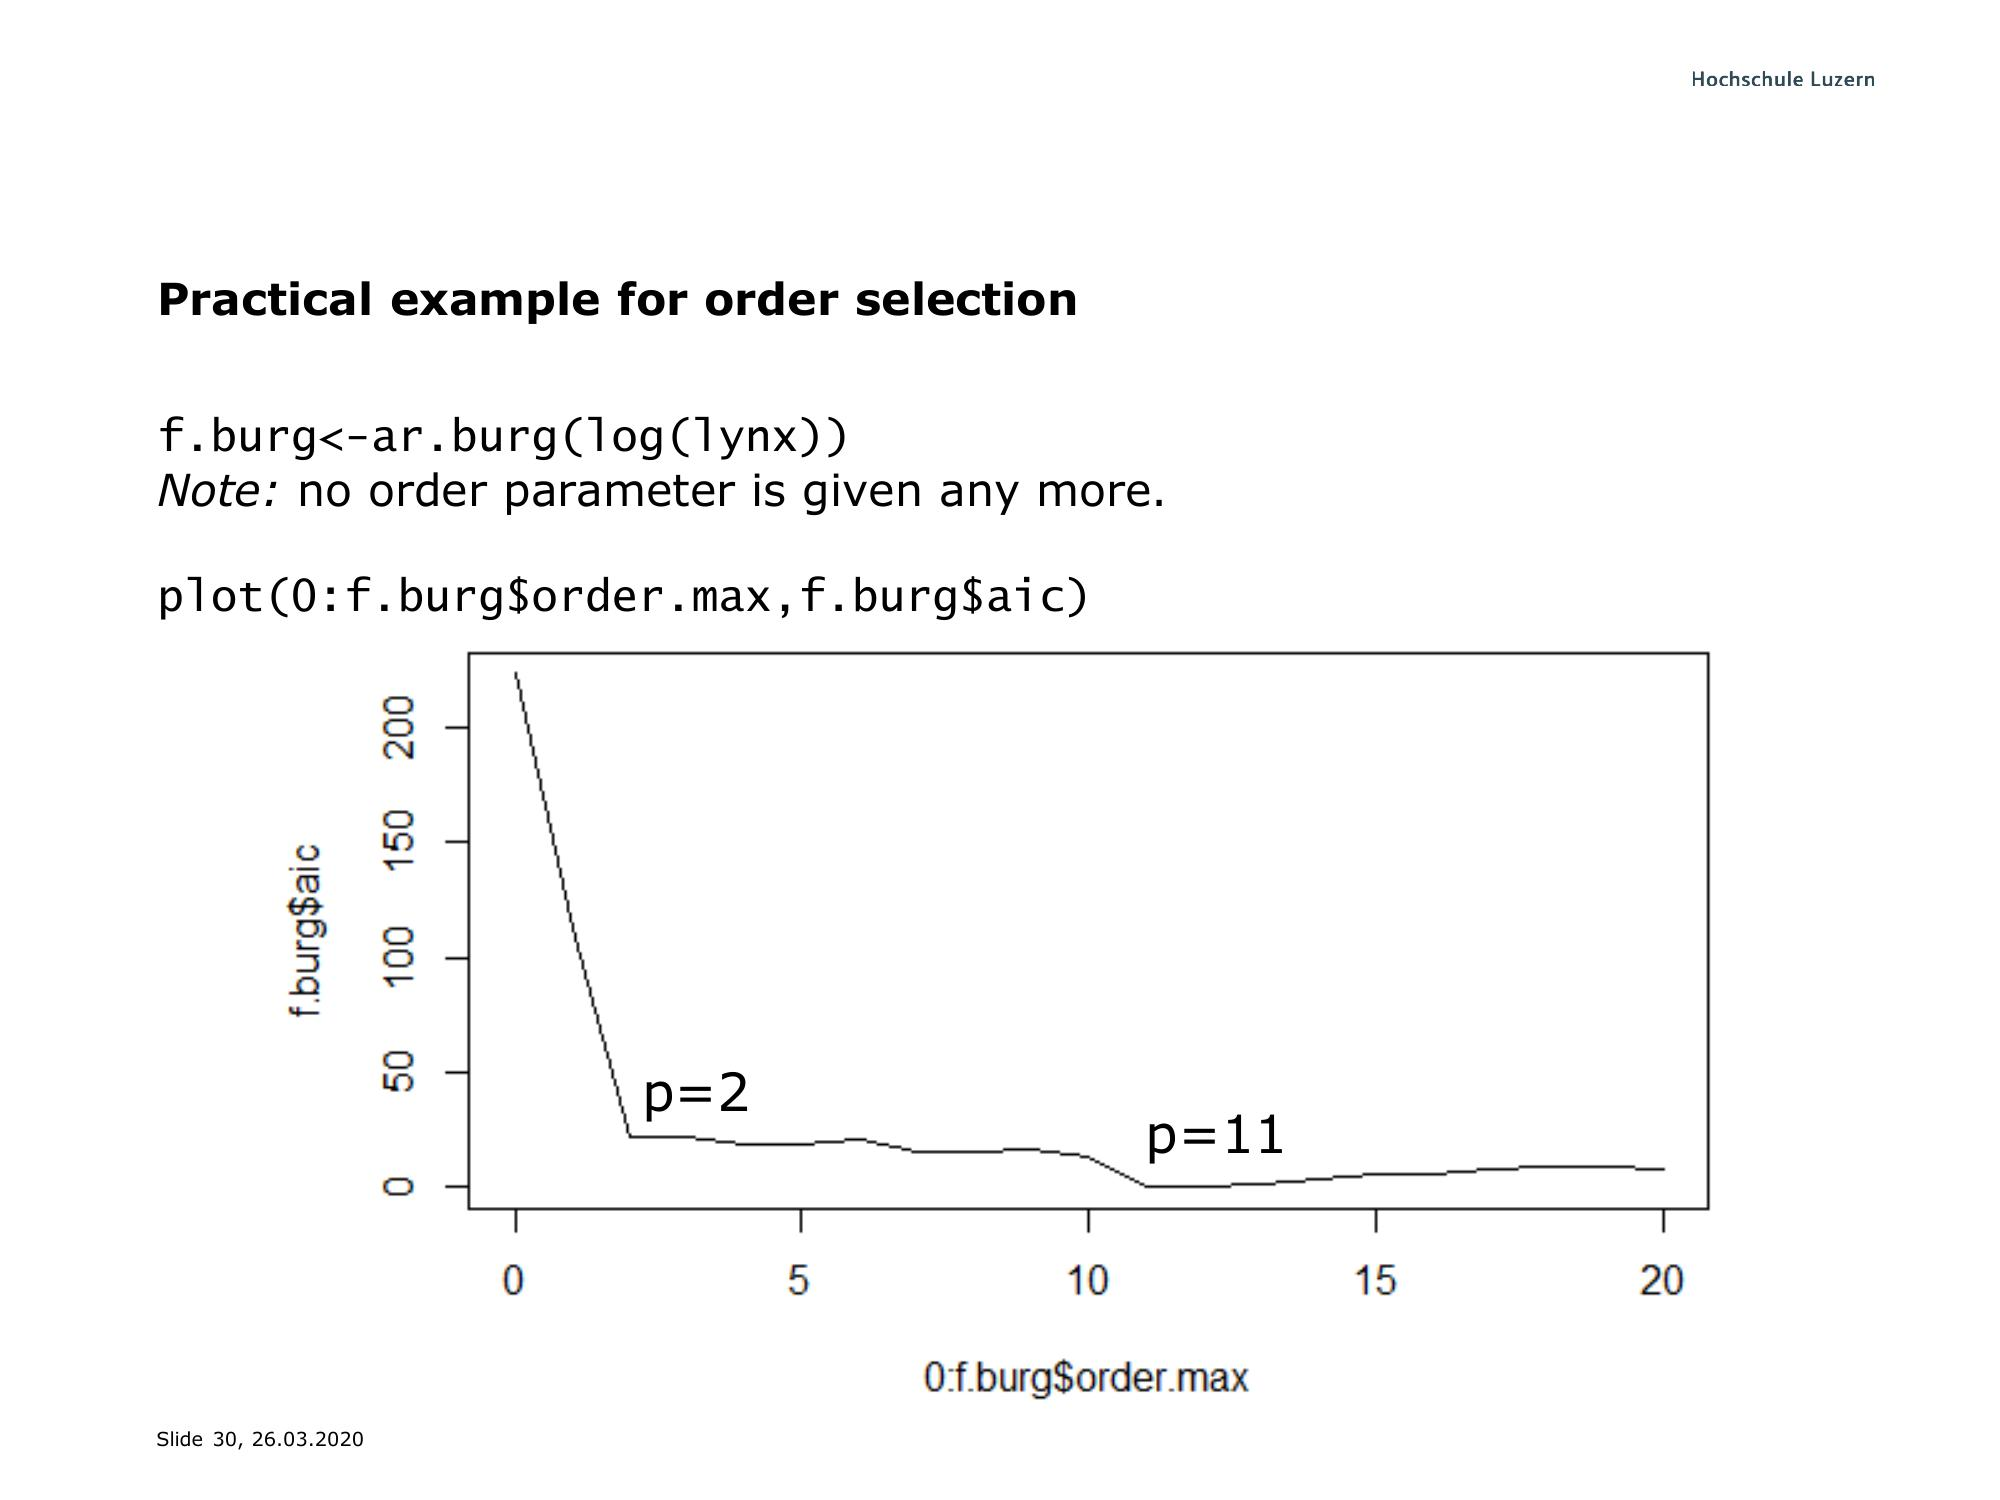Title: (128, 262, 1093, 336)
